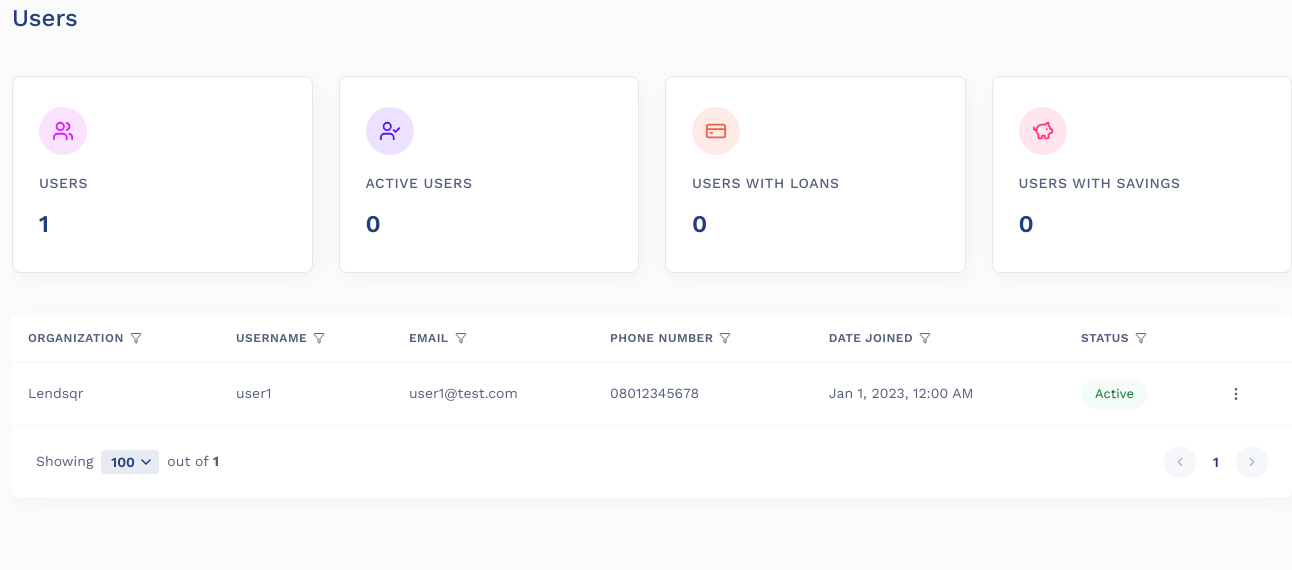
Scenario: UsersPage › shows action menu when 3-dot button is clicked
The image size is (1292, 570).
Click the button named "Row actions" at (1236, 394), box [1222,380,1250,408]
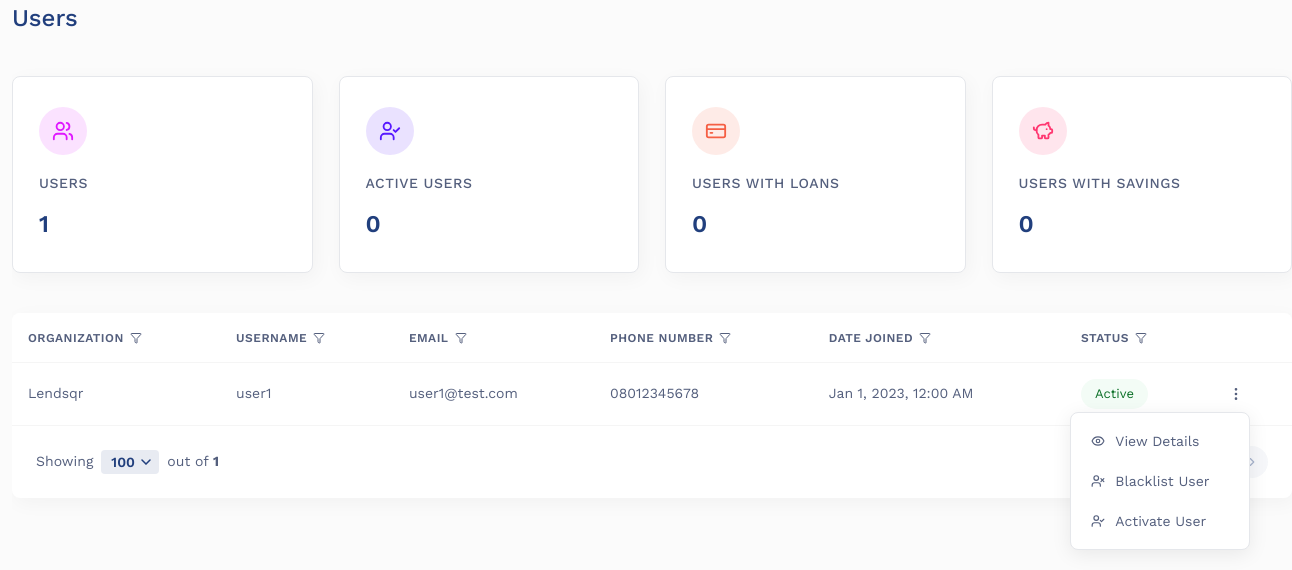
Check: the text "View Details" is shown, box [1115,433,1199,449]
Check: the text "Blacklist User" is shown, box [1115,473,1209,489]
Check: the text "Activate User" is shown, box [1115,513,1206,529]
